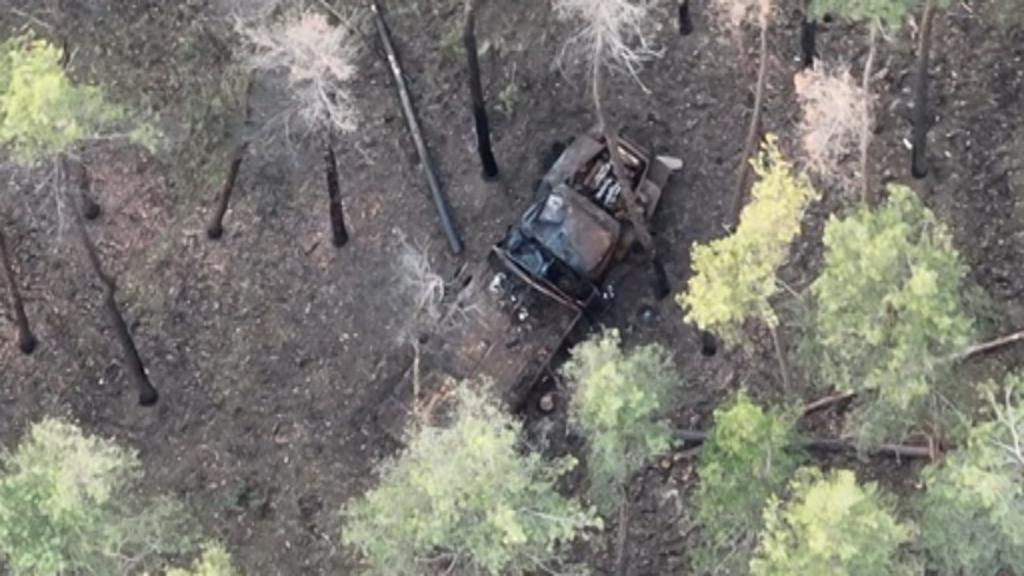TRUCK: (366, 116, 674, 470)
